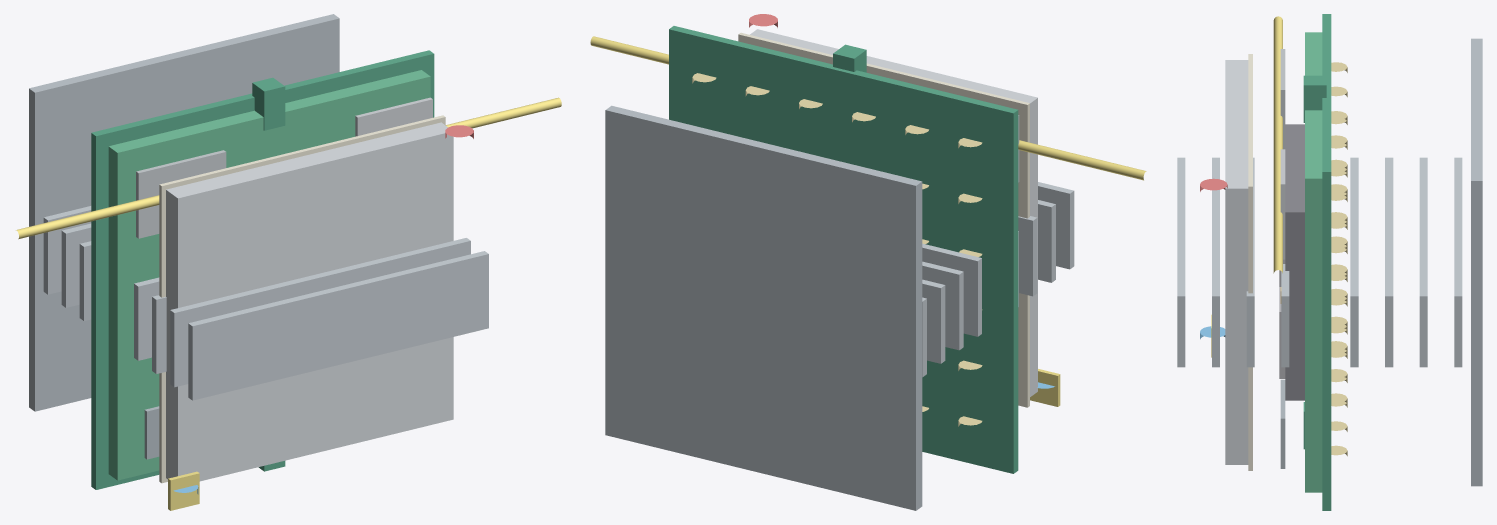
The model's file is cpu.glb.
3 views of the same model, side by side, from view 1: azimuth 30°, elevation 25°; view 2: azimuth 150°, elevation 25°; view 3: azimuth 270°, elevation 25° (orthographic). The views are drawn at different scales.
Parts seen in each view (by area): view 1: heat_spreader, heatsink_fins, heatsink_base, cpu_package, package_substrate, thermal_interface, l3_cache, l2_cache, bus_trace_1, mounting_notch_1, alignment_marker, io_controller (+1 smaller); view 2: heatsink_base, package_substrate, heatsink_fins, thermal_interface, heat_spreader, bus_trace_1, alignment_marker, mounting_notch_1, bus_trace_6; view 3: heatsink_fins, heat_spreader, cpu_package, heatsink_base, silicon_die, package_substrate, thermal_interface, mounting_notch_1, bus_trace_1, bus_trace_3, bus_trace_6, memory_controller (+4 smaller).
Boxes of the visible parts, bbox=[...] form: heat_spreader: bbox=[166, 122, 453, 481]; heatsink_fins: bbox=[43, 206, 488, 400]; heatsink_base: bbox=[29, 14, 339, 411]; cpu_package: bbox=[108, 70, 430, 480]; package_substrate: bbox=[91, 50, 434, 489]; thermal_interface: bbox=[159, 115, 445, 483]; l3_cache: bbox=[136, 150, 226, 238]; l2_cache: bbox=[355, 97, 432, 136]; bus_trace_1: bbox=[16, 195, 159, 239]; mounting_notch_1: bbox=[252, 77, 285, 130]; alignment_marker: bbox=[168, 471, 199, 510]; io_controller: bbox=[144, 406, 159, 459]; heatsink_base: bbox=[605, 105, 922, 510]; package_substrate: bbox=[669, 26, 1018, 473]; heatsink_fins: bbox=[922, 182, 1074, 377]; thermal_interface: bbox=[738, 32, 1029, 407]; heat_spreader: bbox=[750, 29, 1037, 396]; bus_trace_1: bbox=[1018, 140, 1146, 180]; alignment_marker: bbox=[1030, 369, 1060, 406]; mounting_notch_1: bbox=[833, 44, 866, 72]; bus_trace_6: bbox=[590, 36, 668, 64]; heatsink_fins: bbox=[1177, 157, 1462, 367]; heat_spreader: bbox=[1225, 60, 1248, 464]; cpu_package: bbox=[1305, 32, 1322, 492]; heatsink_base: bbox=[1471, 38, 1482, 486]; silicon_die: bbox=[1285, 124, 1304, 400]; package_substrate: bbox=[1322, 14, 1331, 510]; thermal_interface: bbox=[1248, 54, 1252, 470]; mounting_notch_1: bbox=[1303, 75, 1326, 122]; bus_trace_1: bbox=[1273, 16, 1282, 133]; bus_trace_3: bbox=[1273, 71, 1282, 191]; bus_trace_6: bbox=[1273, 154, 1282, 273]; memory_controller: bbox=[1280, 379, 1285, 468].
Bounding box in the file's own units: 1.53 × 1.02 × 0.7787.
